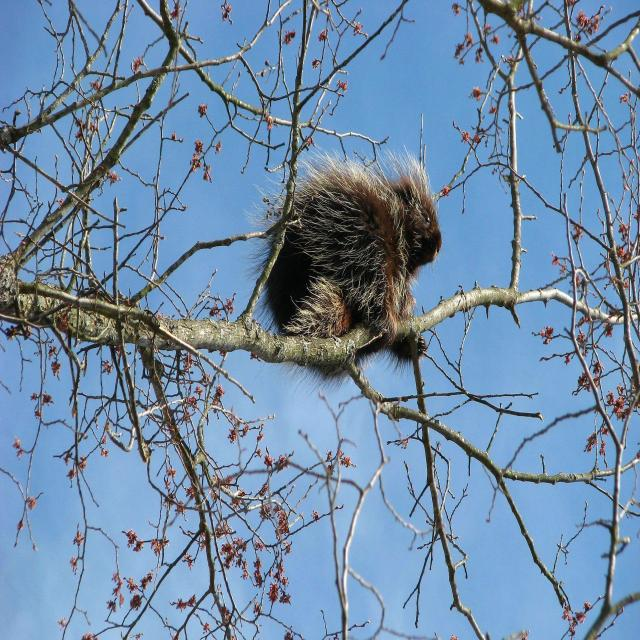porcupine: (264, 157, 442, 352)
